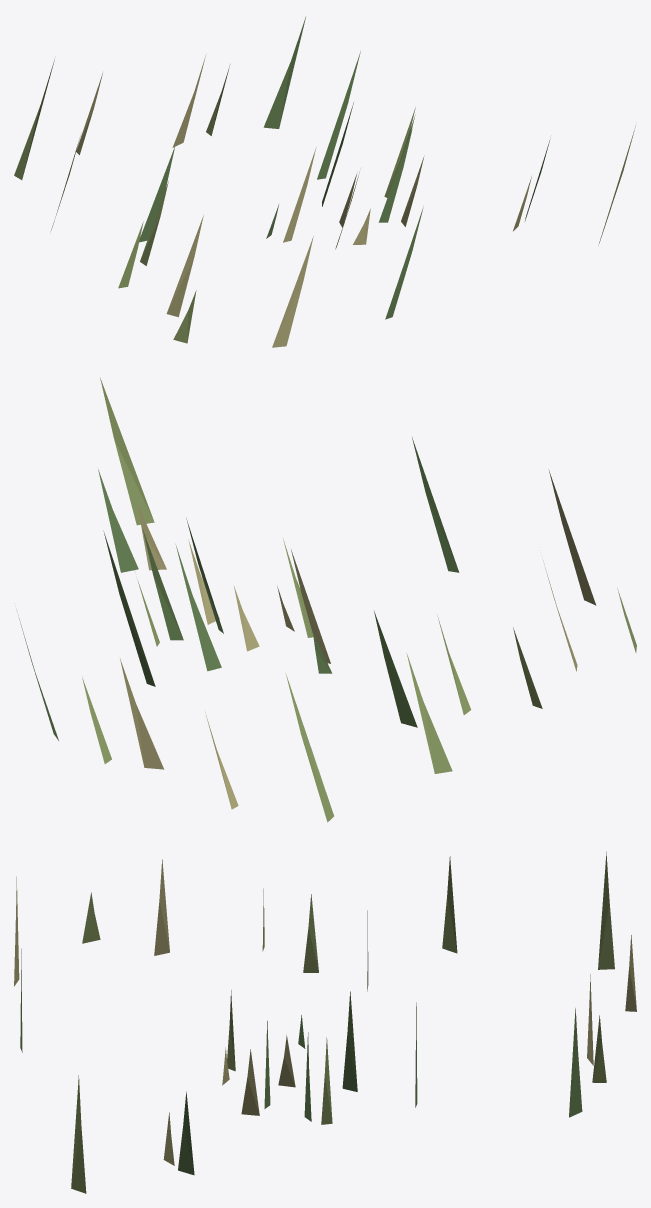
The model's file is club-meadow.low.glb.
3 views of the same model, one above another, from view 1: azimuth 30°, elevation 25°; view 2: azimuth 150°, elevation 25°; view 3: azimuth 270°, elevation 25° (orthographic). The views are drawn at different scales.
Parts seen in each view (by area): view 1: geometry:body:0, geometry:body:2, geometry:body:1; view 2: geometry:body:0, geometry:body:1, geometry:body:2; view 3: geometry:body:1, geometry:body:0, geometry:body:2.
Boxes of the visible parts, left/top/right/bottom form: geometry:body:0: left=139, top=17, right=550, bottom=319; geometry:body:2: left=76, top=54, right=531, bottom=347; geometry:body:1: left=14, top=59, right=635, bottom=343; geometry:body:0: left=16, top=437, right=459, bottom=740; geometry:body:1: left=82, top=377, right=636, bottom=822; geometry:body:2: left=120, top=469, right=596, bottom=809; geometry:body:1: left=71, top=851, right=614, bottom=1193; geometry:body:0: left=20, top=910, right=582, bottom=1175; geometry:body:2: left=14, top=859, right=636, bottom=1165.
Size of the model in its own units: 1.83 by 0.46 by 1.76.
